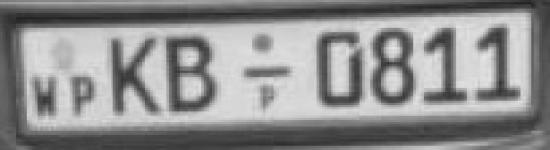-: (239, 61, 298, 82)
0: (310, 27, 368, 113)
1: (469, 19, 524, 104), (420, 23, 471, 109)
8: (367, 23, 420, 112)
B: (162, 31, 223, 120)
K: (108, 35, 164, 121)
P: (67, 72, 101, 119)
W: (28, 73, 65, 122)
